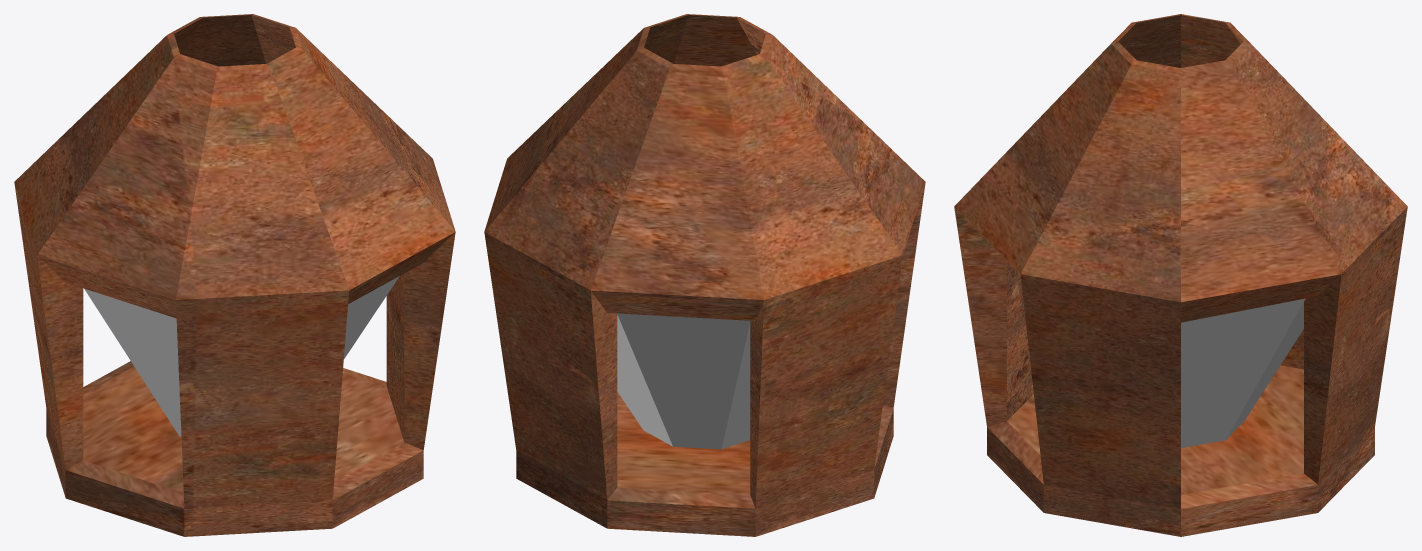
File: new_lantern.fbx
The picture shows the model from 3 angles, left to right: view 1: azimuth 30°, elevation 25°; view 2: azimuth 150°, elevation 25°; view 3: azimuth 270°, elevation 25°; orthographic projection.
Visible parts, largest first — view 1: Cylinder, Cylinder.001; view 2: Cylinder, Cylinder.001; view 3: Cylinder, Cylinder.001.
Boxes of the visible parts, box(x1,y1,x2,y2) form: Cylinder: box(14, 14, 455, 536); Cylinder.001: box(84, 276, 399, 436); Cylinder: box(484, 14, 925, 536); Cylinder.001: box(617, 313, 750, 449); Cylinder: box(954, 14, 1407, 536); Cylinder.001: box(1181, 298, 1305, 447).
Bounding box in the file's own units: 234 × 235 × 234.
